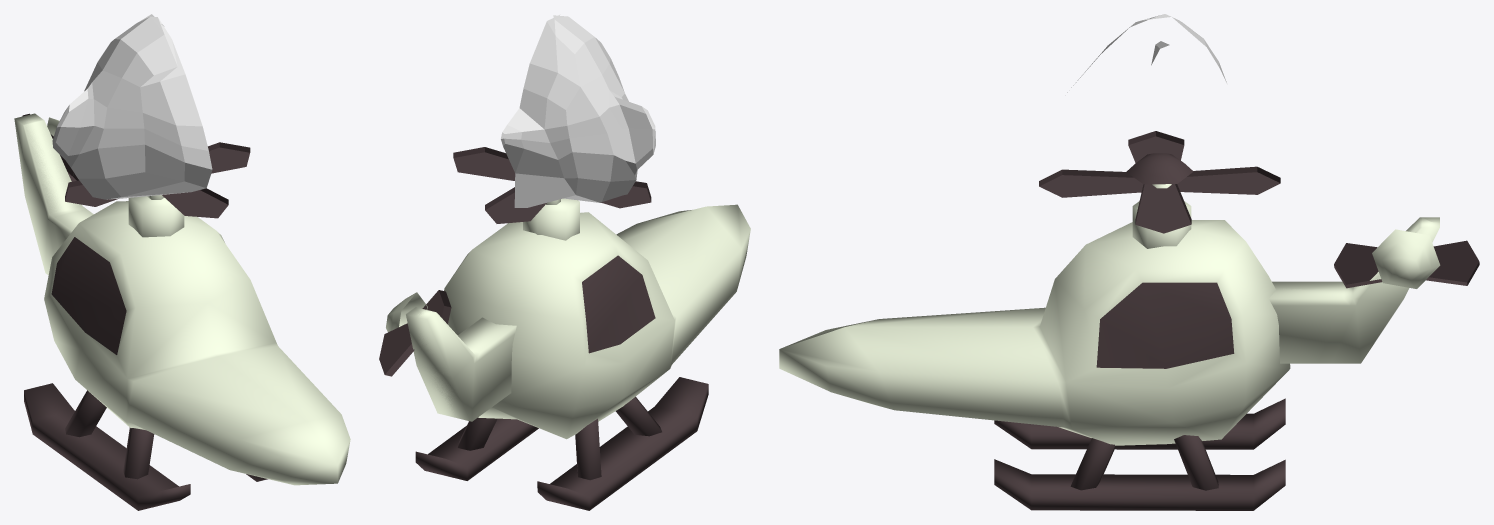
Rendered from helicopter.glb.
3 views of the same model, side by side, from view 1: azimuth 30°, elevation 25°; view 2: azimuth 150°, elevation 25°; view 3: azimuth 270°, elevation 25° (orthographic). The views are drawn at different scales.
Visible parts, largest first — view 1: Sphere.006, Cube, Sphere.005; view 2: Sphere.006, Cube, Sphere.005, Sphere.007; view 3: Sphere.006, Sphere.005, Sphere.007.
Part boxes in pixels (x1,y1,x2,y2): Sphere.006: (14, 113, 350, 510); Cube: (52, 14, 212, 199); Sphere.005: (65, 142, 250, 218); Sphere.006: (386, 198, 750, 510); Cube: (501, 14, 655, 207); Sphere.005: (453, 147, 651, 223); Sphere.007: (379, 290, 451, 376); Sphere.006: (779, 184, 1440, 510); Sphere.005: (1039, 131, 1280, 233); Sphere.007: (1334, 240, 1479, 288).
Bounding box in the file's own units: 2.87 × 6.02 × 8.4.
